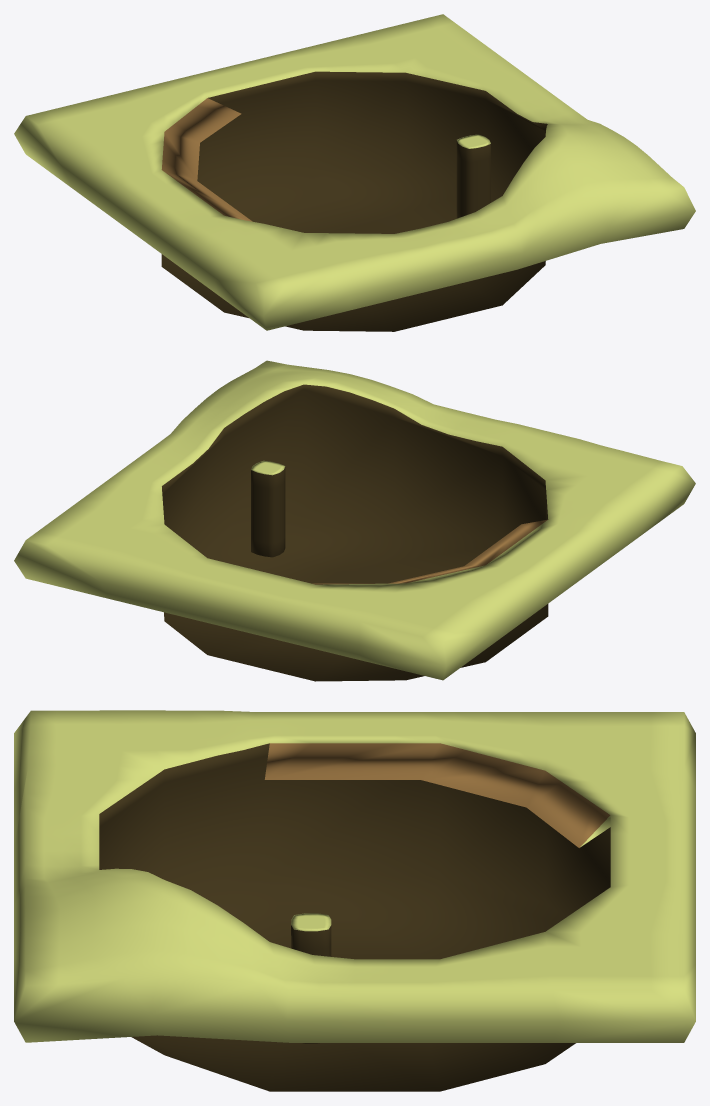
The model's file is mapa_nowa.glb.
The picture shows the model from 3 angles, top to bottom: view 1: azimuth 30°, elevation 25°; view 2: azimuth 150°, elevation 25°; view 3: azimuth 270°, elevation 25°; orthographic projection. The views are drawn at different scales.
Parts seen in each view (by area): view 1: grunt.001, wyspa; view 2: grunt.001, wyspa; view 3: grunt.001, wyspa.
Boxes of the visible parts, <box> form: grunt.001: <box>14,14,695,331</box>; wyspa: <box>456,134,490,218</box>; grunt.001: <box>14,360,695,681</box>; wyspa: <box>251,460,285,557</box>; grunt.001: <box>14,710,695,1091</box>; wyspa: <box>291,913,331,1043</box>.
Bounding box in the file's own units: 16.16 × 4.82 × 16.16.
